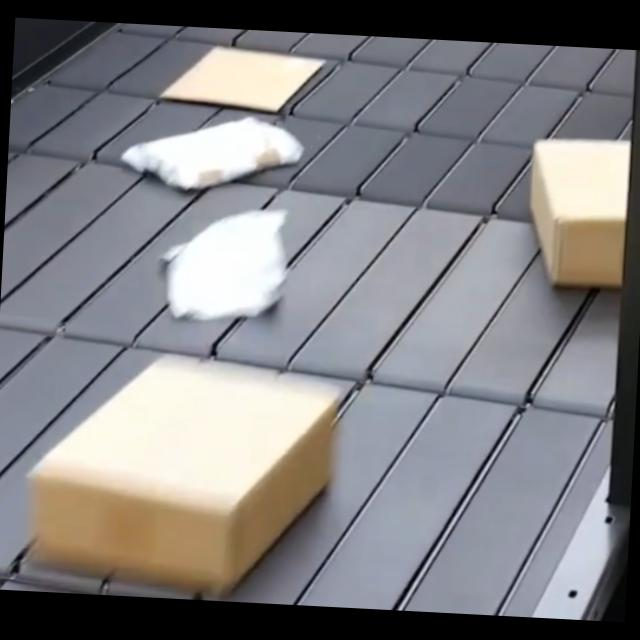box: (25, 345, 339, 599), (526, 138, 634, 294)
mailer: (164, 203, 296, 324), (128, 110, 300, 194), (161, 44, 322, 112)
